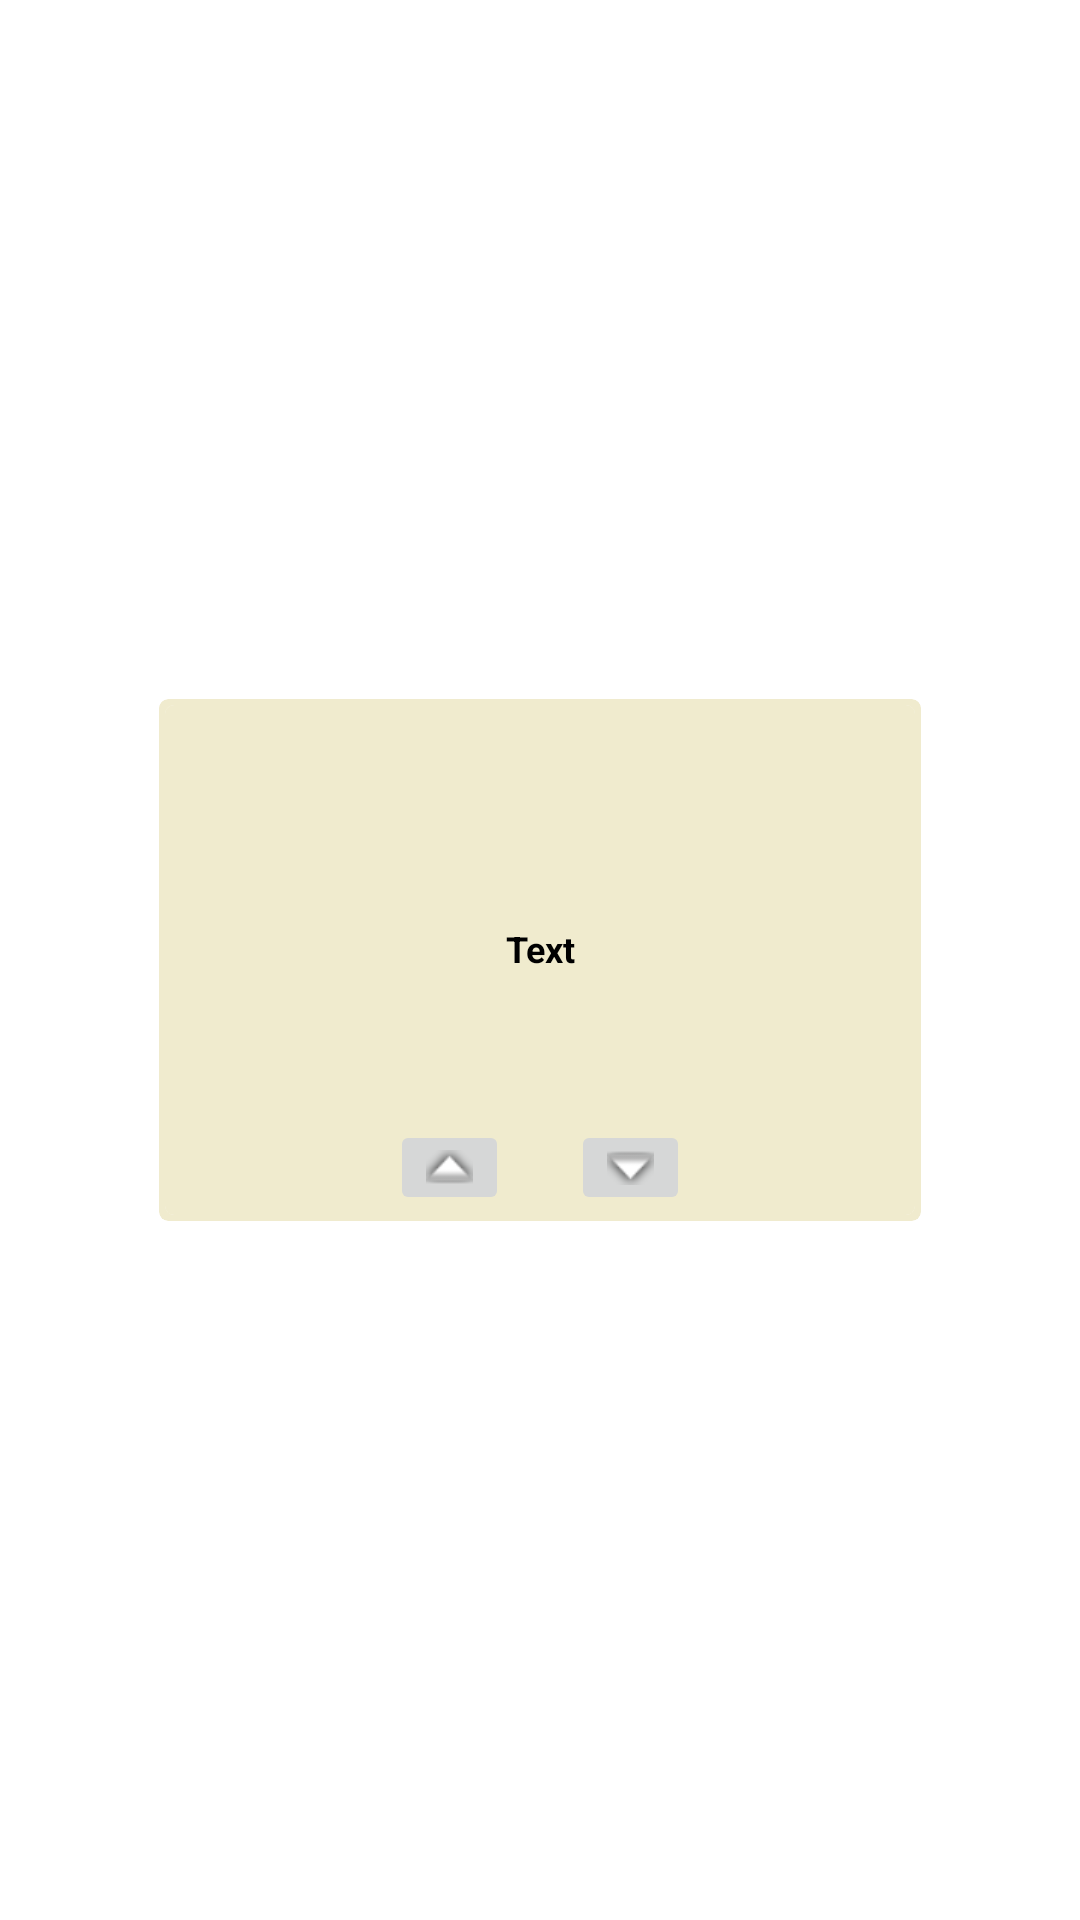

Icons on this 1080×1920 Android screen, each with the point to tap as (x=x, y=y):
arrow down float: (x=630, y=1167)
arrow up float: (x=449, y=1167)
